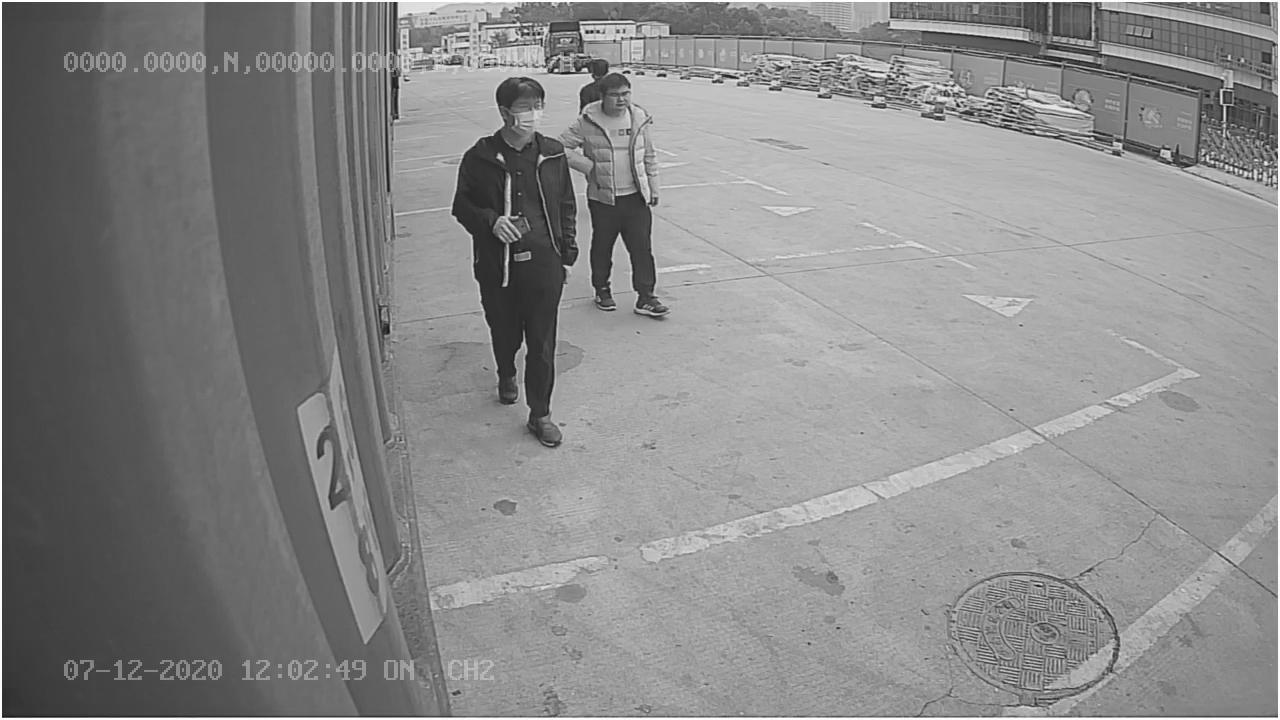person: (451, 77, 580, 449)
